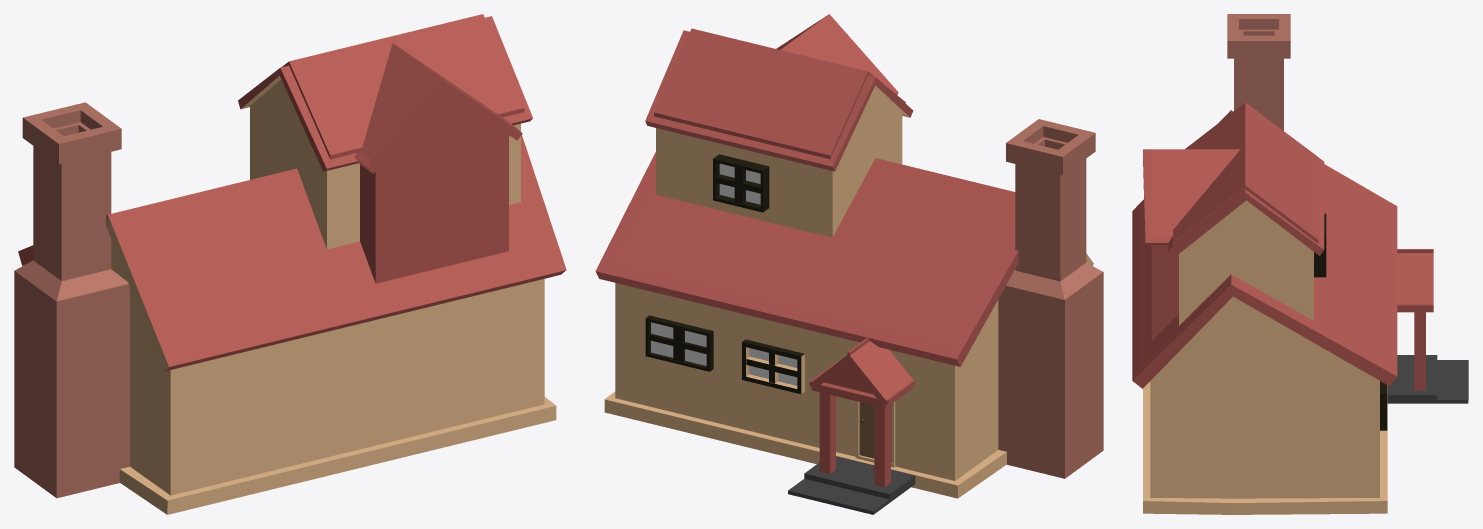
The model's file is Housev2.fbx.
3 renders of one model, left to right at view 1: azimuth 30°, elevation 25°; view 2: azimuth 150°, elevation 25°; view 3: azimuth 270°, elevation 25°, orthographic. The views are drawn at different scales.
Parts seen in each view (by area): view 1: Cube, Cube.010, Cube.003, Cube.002, Cube.007, Cube.001, Cube.008; view 2: Cube.010, Cube, Cube.003, Cube.007, Cube.001, Cube.004, Cube.015, Cube.008, Cube.014, Cube.017, Cube.019, Cube.005 (+4 smaller); view 3: Cube, Cube.010, Cube.007, Cube.001, Cube.003, Cube.008, Cube.015, Cube.004, Cube.002, Cube.006, Cube.017.
Boxes of the visible parts, box(x1,y1,x2,y2) form: Cube: box(23, 215, 556, 514); Cube.010: box(18, 135, 566, 371); Cube.003: box(14, 102, 129, 498); Cube.002: box(360, 92, 508, 283); Cube.007: box(238, 14, 532, 171); Cube.001: box(241, 76, 520, 249); Cube.008: box(354, 43, 522, 173); Cube.010: box(596, 152, 1018, 366); Cube: box(604, 253, 1093, 498); Cube.003: box(998, 119, 1103, 478); Cube.007: box(645, 28, 913, 170); Cube.001: box(656, 85, 909, 237); Cube.004: box(809, 338, 915, 408); Cube.015: box(788, 456, 915, 514); Cube.008: box(776, 14, 898, 94); Cube.014: box(595, 271, 960, 366); Cube.017: box(713, 154, 769, 212); Cube.019: box(645, 315, 713, 371); Cube.005: box(874, 404, 890, 487); Cube: box(1143, 296, 1387, 514); Cube.010: box(1132, 110, 1397, 388); Cube.007: box(1168, 102, 1324, 257); Cube.001: box(1179, 200, 1313, 325); Cube.003: box(1227, 14, 1290, 130); Cube.008: box(1143, 149, 1240, 242); Cube.015: box(1387, 355, 1468, 403); Cube.004: box(1397, 249, 1433, 312); Cube.002: box(1145, 243, 1178, 340); Cube.006: box(1414, 312, 1425, 390); Cube.017: box(1314, 213, 1326, 277).
Size of the model in its own units: 1263 by 955 by 903.
